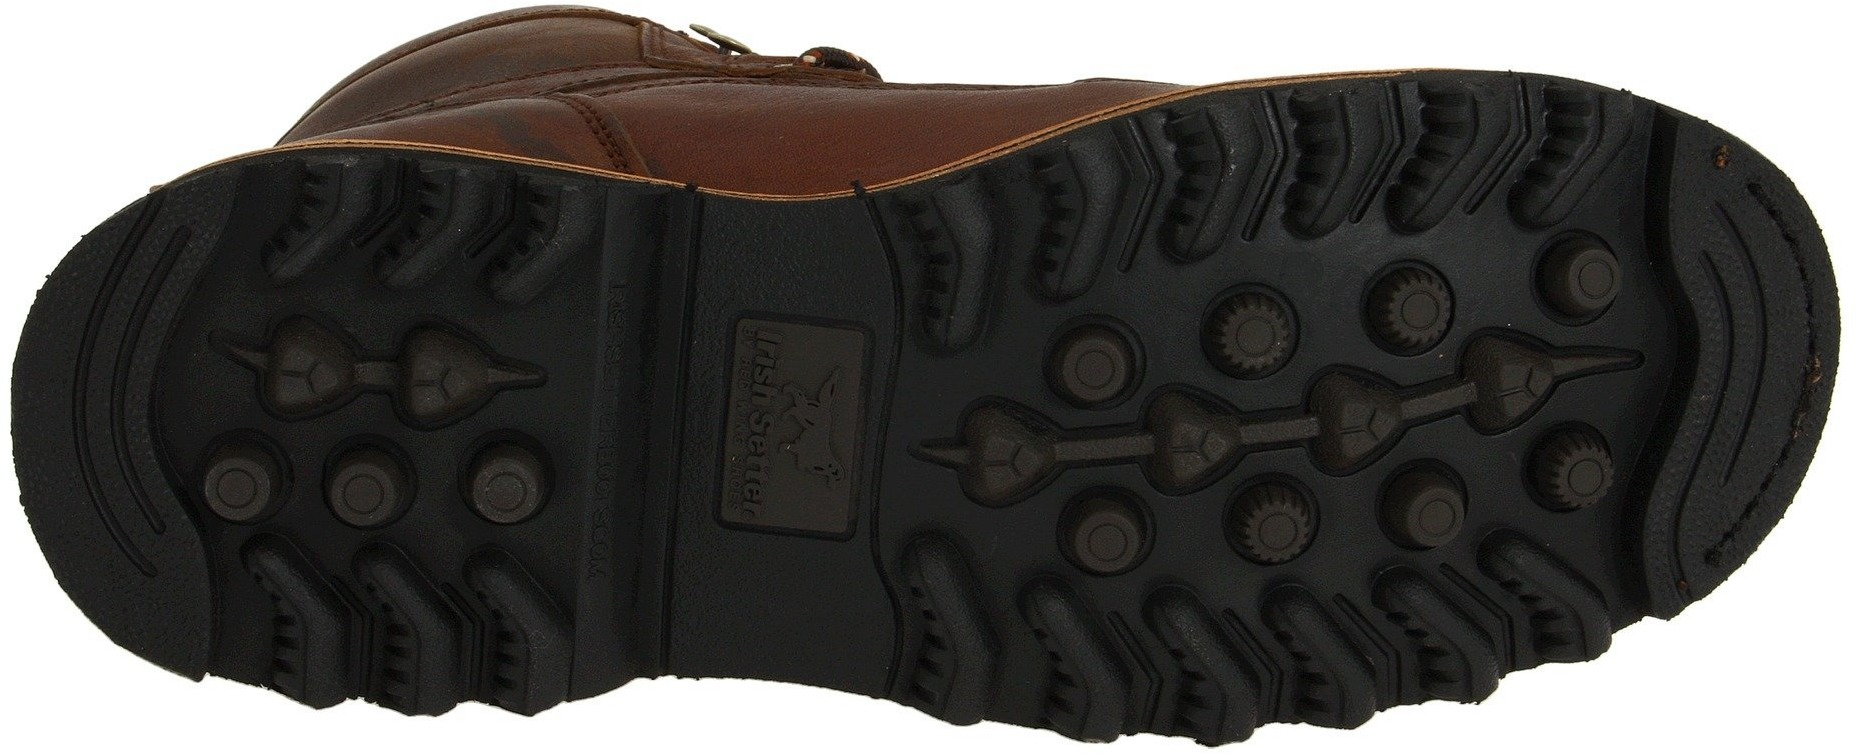chevron: (1456, 66, 1544, 221), (1104, 108, 1181, 278), (1342, 73, 1416, 240), (1236, 82, 1293, 259)
circle: (311, 424, 422, 561), (180, 425, 288, 529), (465, 449, 550, 536)
exclude: (638, 191, 882, 694)
